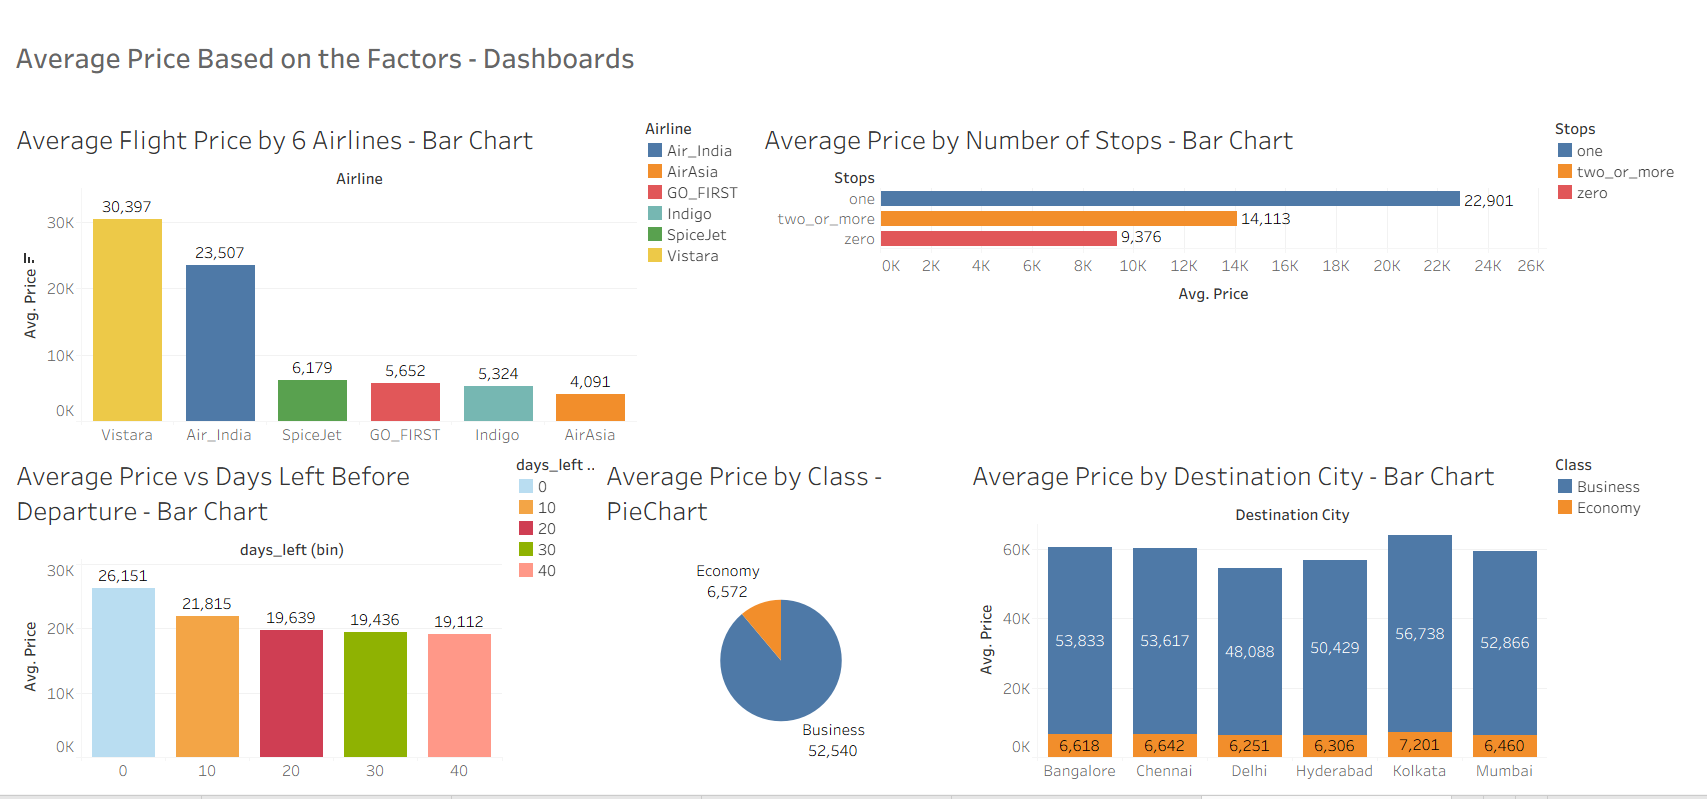

Layout of this report page (visuals, bound fields, positions):
{"tool":"tableau","page":{"name":"Average Price Based on the Factors - Dashboards","canvas":[1000,1000],"units":"permille","ordinal":0},"visuals":[{"type":"text","box":[4.8,10,990.3,140.8]},{"type":"worksheet","title":"Average Flight Price by 6 Airlines","mark":"Automatic","rows":["price"],"cols":["airline"],"box":[4.8,150.8,370.5,419.6]},{"type":"legend","title":"Average Flight Price by 6 Airlines","param":"[federated.19xf92s04zjaap17otnra0uwtt96].[none:airline:nk]","box":[375.4,150.8,67.6,419.6]},{"type":"worksheet","title":"Average Price by Number of Stops - BarChart","mark":"Automatic","rows":["stops"],"cols":["price"],"box":[442.9,150.8,465.3,419.6]},{"type":"legend","title":"Average Price by Number of Stops - BarChart","param":"[federated.19xf92s04zjaap17otnra0uwtt96].[none:stops:nk]","box":[908.3,150.8,86.9,419.6]},{"type":"worksheet","title":"Price vs Days Left Before Departure","mark":"Automatic","rows":["price"],"cols":["days_left (bin)"],"box":[4.8,570.4,295.1,419.6]},{"type":"legend","title":"Price vs Days Left Before Departure","param":"[federated.19xf92s04zjaap17otnra0uwtt96].[none:days_left (bin):ok]","box":[299.9,570.4,50.7,419.6]},{"type":"worksheet","title":"Average Price by Class - PieChart","mark":"Pie","box":[350.6,570.4,214.1,419.6]},{"type":"worksheet","title":"Average Price by Destination City - Bar Chart","mark":"Automatic","rows":["price"],"cols":["destination_city"],"box":[564.7,570.4,343.8,419.6]},{"type":"legend","title":"Average Price by Class - PieChart","param":"[federated.19xf92s04zjaap17otnra0uwtt96].[none:class:nk]","box":[908.5,570.4,86.7,419.6]}]}

Visuals, with their boxes on the dashboard's canvas, which has no fixed pixel size, in thousandths of its width and height (x1, y1, x2, y2). These are canvas units, not pixel positions in the 1707x799 screenshot, which may show the page scaled, cropped or inside an application window:
text: [left=5, top=10, right=995, bottom=151]
"Average Flight Price by 6 Airlines" worksheet: [left=5, top=151, right=375, bottom=570]
"Average Flight Price by 6 Airlines" legend: [left=375, top=151, right=443, bottom=570]
"Average Price by Number of Stops - BarChart" worksheet: [left=443, top=151, right=908, bottom=570]
"Average Price by Number of Stops - BarChart" legend: [left=908, top=151, right=995, bottom=570]
"Price vs Days Left Before Departure" worksheet: [left=5, top=570, right=300, bottom=990]
"Price vs Days Left Before Departure" legend: [left=300, top=570, right=351, bottom=990]
"Average Price by Class - PieChart" worksheet (Pie marks): [left=351, top=570, right=565, bottom=990]
"Average Price by Destination City - Bar Chart" worksheet: [left=565, top=570, right=908, bottom=990]
"Average Price by Class - PieChart" legend: [left=908, top=570, right=995, bottom=990]
